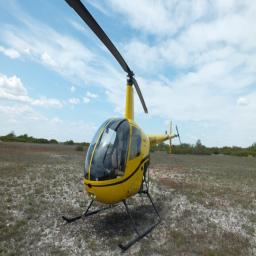helicopter: (68, 2, 183, 251)
